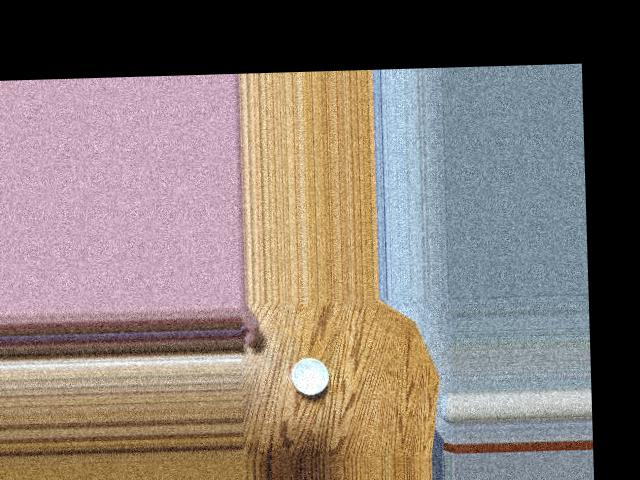cotage: (288, 353, 330, 394)
